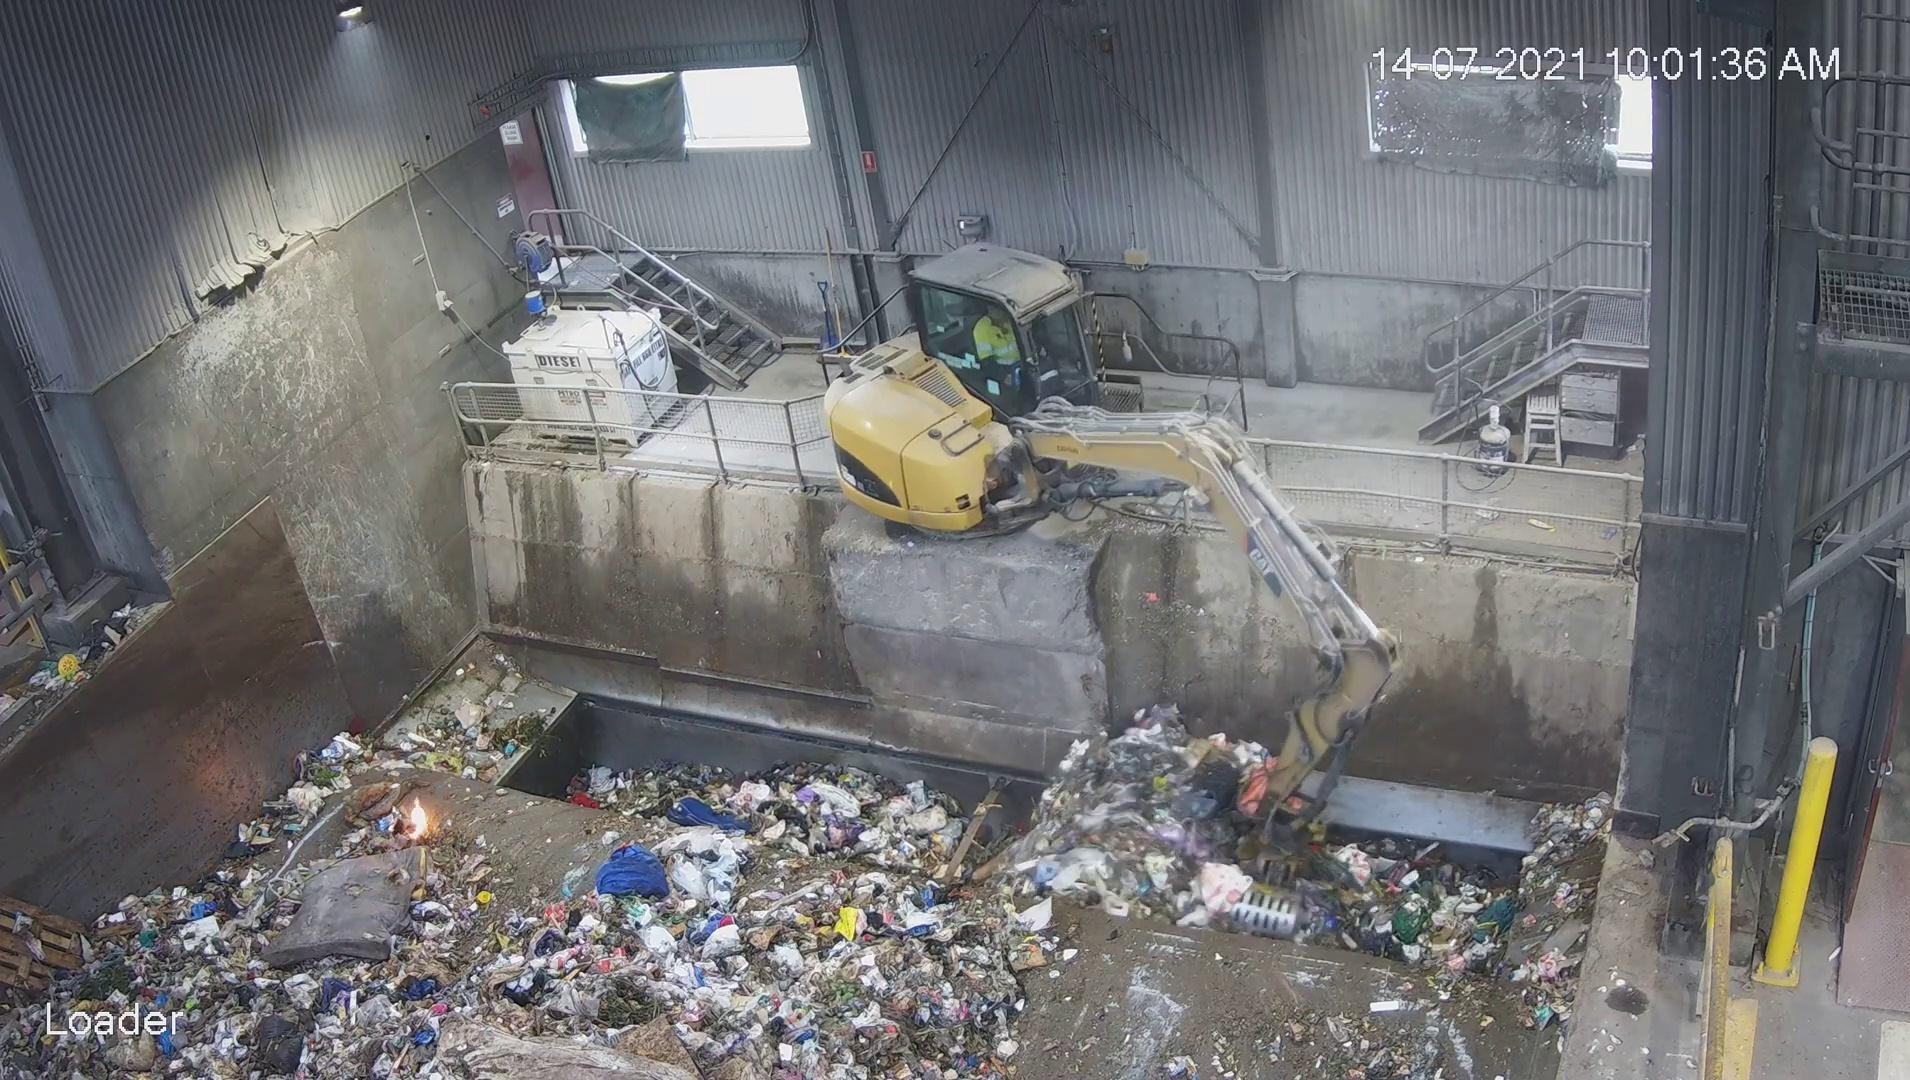fire: (300, 707, 544, 872)
